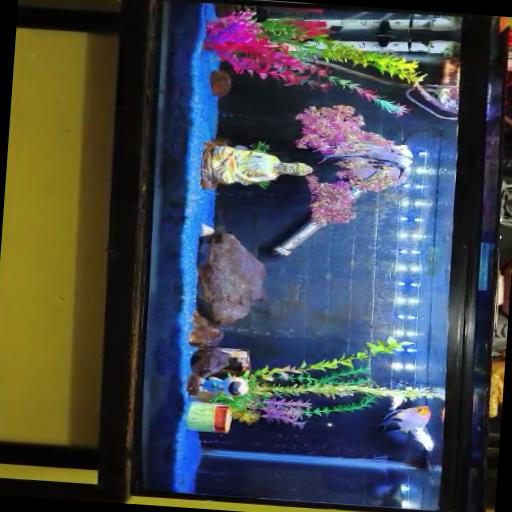Fish: (379, 405, 432, 450), (439, 407, 445, 420)
